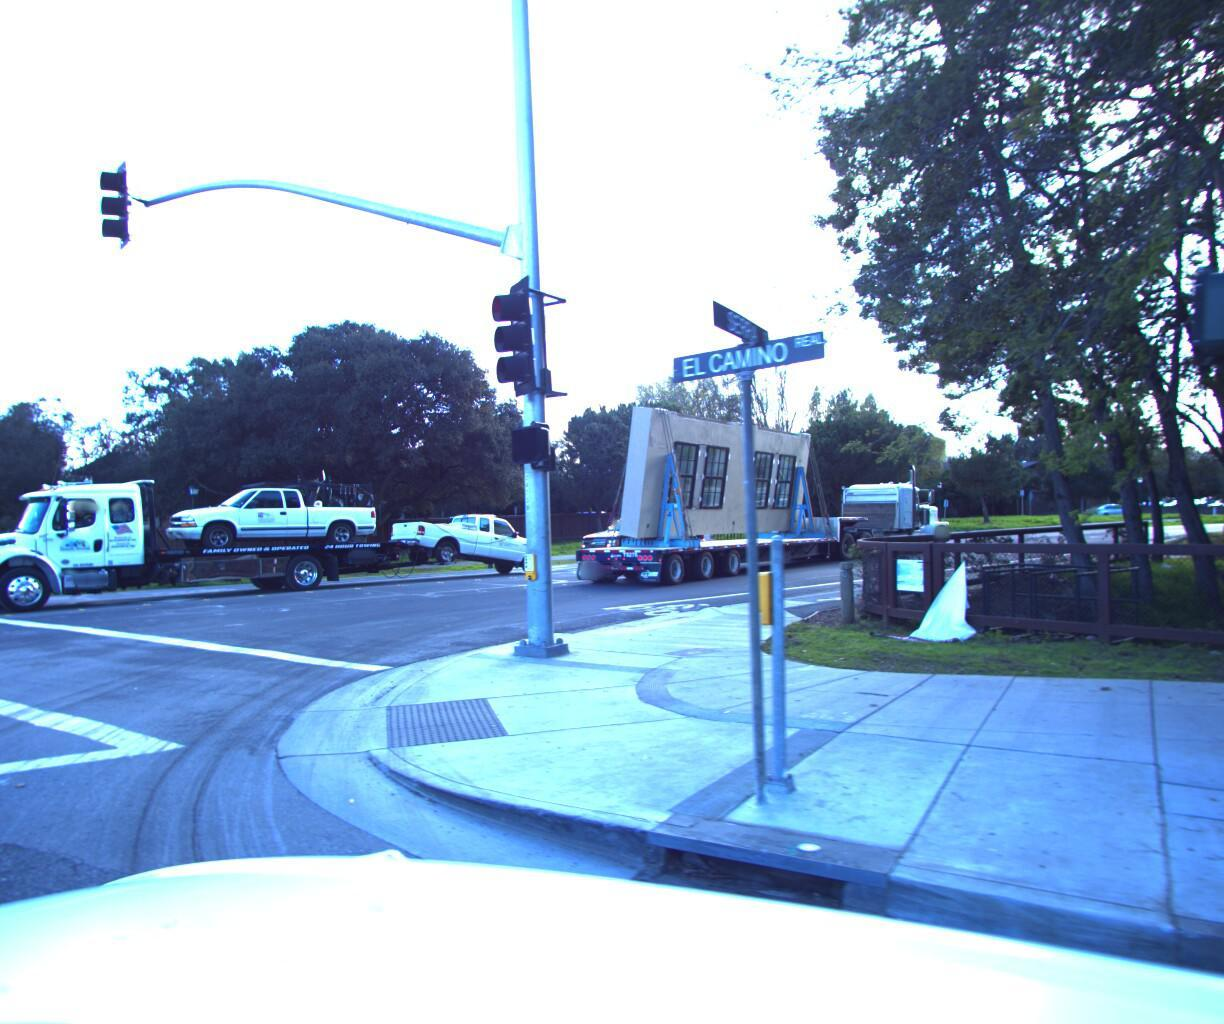car: (155, 475, 386, 549), (389, 505, 557, 580), (570, 504, 712, 564)
other_vehicle: (570, 381, 894, 580)
truck: (815, 474, 953, 553)
